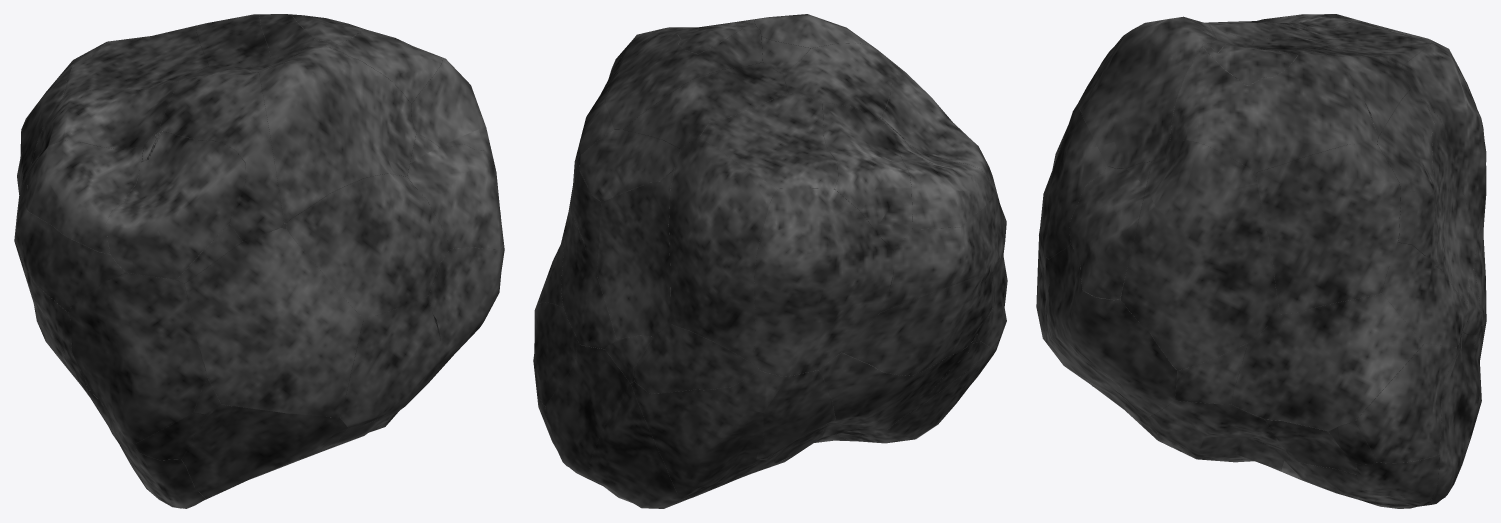
The model's file is Asteroid4.fbx.
3 views of the same model, side by side, from view 1: azimuth 30°, elevation 25°; view 2: azimuth 150°, elevation 25°; view 3: azimuth 270°, elevation 25° (orthographic). The views are drawn at different scales.
Parts seen in each view (by area): view 1: Asteroid_no_2_cell.020, Asteroid_no_2_cell.023, Asteroid_no_2_cell.036, Asteroid_no_2_cell.047, Asteroid_no_2_cell.007, Asteroid_no_2_cell.046, Asteroid_no_2_cell.035, Asteroid_no_2_cell.022, Asteroid_no_2_cell.045, Asteroid_no_2_cell.012, Asteroid_no_2_cell.014, Asteroid_no_2_cell.066 (+12 smaller); view 2: Asteroid_no_2_cell.003, Asteroid_no_2_cell.030, Asteroid_no_2_cell.010, Asteroid_no_2_cell.054, Asteroid_no_2_cell.066, Asteroid_no_2_cell.033, Asteroid_no_2_cell.014, Asteroid_no_2_cell.002, Asteroid_no_2_cell.038, Asteroid_no_2_cell.073, Asteroid_no_2_cell.050, Asteroid_no_2_cell.042 (+19 smaller); view 3: Asteroid_no_2_cell.017, Asteroid_no_2_cell.053, Asteroid_no_2_cell.072, Asteroid_no_2_cell.002, Asteroid_no_2_cell.023, Asteroid_no_2_cell.057, Asteroid_no_2_cell.028, Asteroid_no_2_cell.012, Asteroid_no_2_cell.030, Asteroid_no_2_cell.004, Asteroid_no_2_cell.071, Asteroid_no_2_cell.054 (+18 smaller).
Boxes of the visible parts, box(x1,y1,x2,y2) form: Asteroid_no_2_cell.020: box(184, 227, 363, 417); Asteroid_no_2_cell.023: box(259, 46, 416, 223); Asteroid_no_2_cell.036: box(68, 273, 207, 444); Asteroid_no_2_cell.047: box(286, 173, 449, 318); Asteroid_no_2_cell.007: box(106, 131, 245, 279); Asteroid_no_2_cell.046: box(160, 66, 283, 241); Asteroid_no_2_cell.035: box(181, 404, 348, 499); Asteroid_no_2_cell.022: box(27, 140, 143, 253); Asteroid_no_2_cell.045: box(340, 295, 440, 427); Asteroid_no_2_cell.012: box(407, 134, 503, 249); Asteroid_no_2_cell.014: box(22, 80, 178, 179); Asteroid_no_2_cell.066: box(63, 25, 208, 96); Asteroid_no_2_cell.003: box(754, 188, 893, 376); Asteroid_no_2_cell.030: box(669, 137, 777, 364); Asteroid_no_2_cell.010: box(630, 368, 788, 500); Asteroid_no_2_cell.054: box(597, 167, 675, 338); Asteroid_no_2_cell.066: box(700, 93, 838, 188); Asteroid_no_2_cell.033: box(841, 271, 993, 375); Asteroid_no_2_cell.014: box(822, 102, 912, 250); Asteroid_no_2_cell.002: box(605, 20, 762, 129); Asteroid_no_2_cell.038: box(880, 187, 1001, 312); Asteroid_no_2_cell.073: box(623, 62, 788, 149); Asteroid_no_2_cell.050: box(819, 341, 973, 438); Asteroid_no_2_cell.042: box(545, 344, 629, 480); Asteroid_no_2_cell.017: box(1120, 140, 1279, 370); Asteroid_no_2_cell.053: box(1256, 144, 1400, 313); Asteroid_no_2_cell.072: box(1231, 293, 1424, 431); Asteroid_no_2_cell.002: box(1170, 39, 1377, 172); Asteroid_no_2_cell.023: box(1078, 16, 1217, 172); Asteroid_no_2_cell.057: box(1048, 244, 1176, 418); Asteroid_no_2_cell.028: box(1355, 343, 1456, 463); Asteroid_no_2_cell.012: box(1069, 161, 1151, 299); Asteroid_no_2_cell.030: box(1401, 41, 1486, 237); Asteroid_no_2_cell.004: box(1146, 400, 1289, 471); Asteroid_no_2_cell.071: box(1381, 243, 1468, 346); Asteroid_no_2_cell.054: box(1425, 103, 1476, 303).
Size of the model in its own units: 575 by 591 by 527.
Materials: 1 (1 with a texture image).
